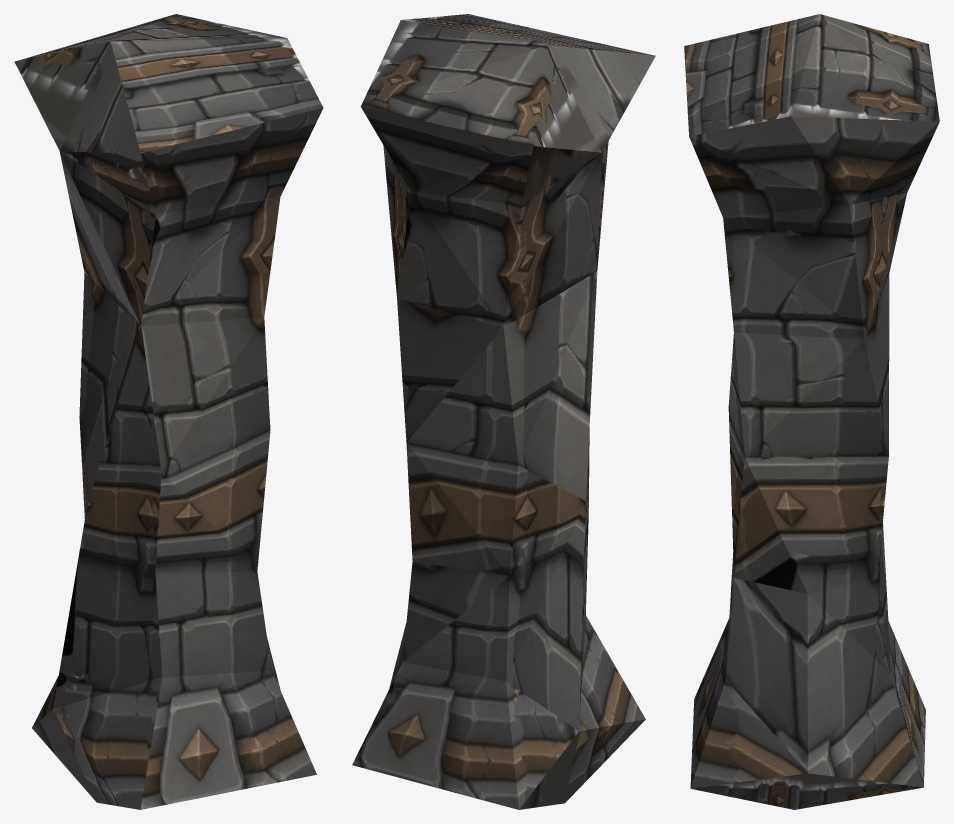
File: SM_Dungeon_Pillar_A_LOD3.fbx
3 views of the same model, side by side, from view 1: azimuth 30°, elevation 25°; view 2: azimuth 150°, elevation 25°; view 3: azimuth 270°, elevation 25° (orthographic).
Parts seen in each view (by area): view 1: SM_Dungeon_Pillar_A_LOD3; view 2: SM_Dungeon_Pillar_A_LOD3; view 3: SM_Dungeon_Pillar_A_LOD3.
Part boxes in pixels (x1,y1,x2,y2): SM_Dungeon_Pillar_A_LOD3: [14, 14, 323, 809]; SM_Dungeon_Pillar_A_LOD3: [352, 14, 655, 809]; SM_Dungeon_Pillar_A_LOD3: [684, 14, 939, 809].
Bounding box in the file's own units: 0.9131 × 3.04 × 0.943.
